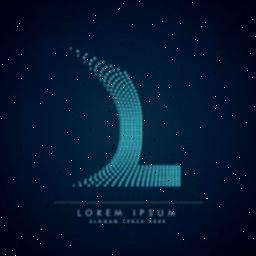l: (62, 36, 186, 196)
